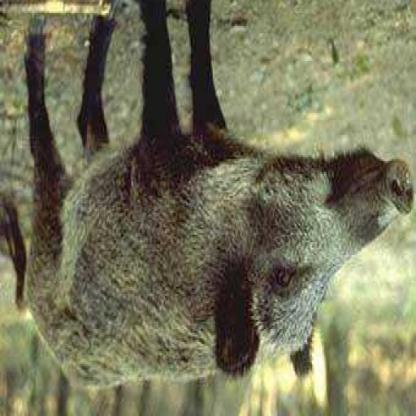boar: (11, 20, 415, 387)
